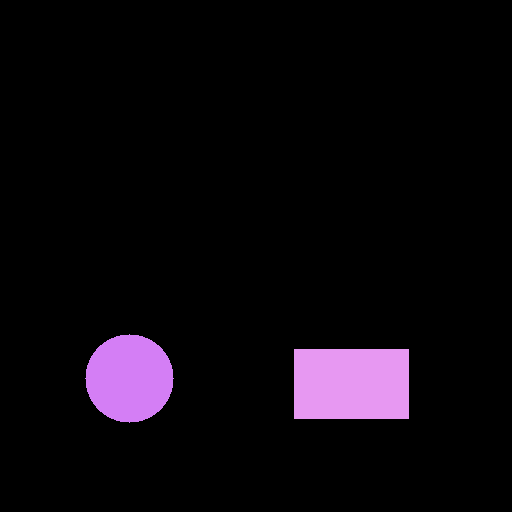circle: (85, 334, 173, 422)
rectangle: (294, 349, 408, 418)
